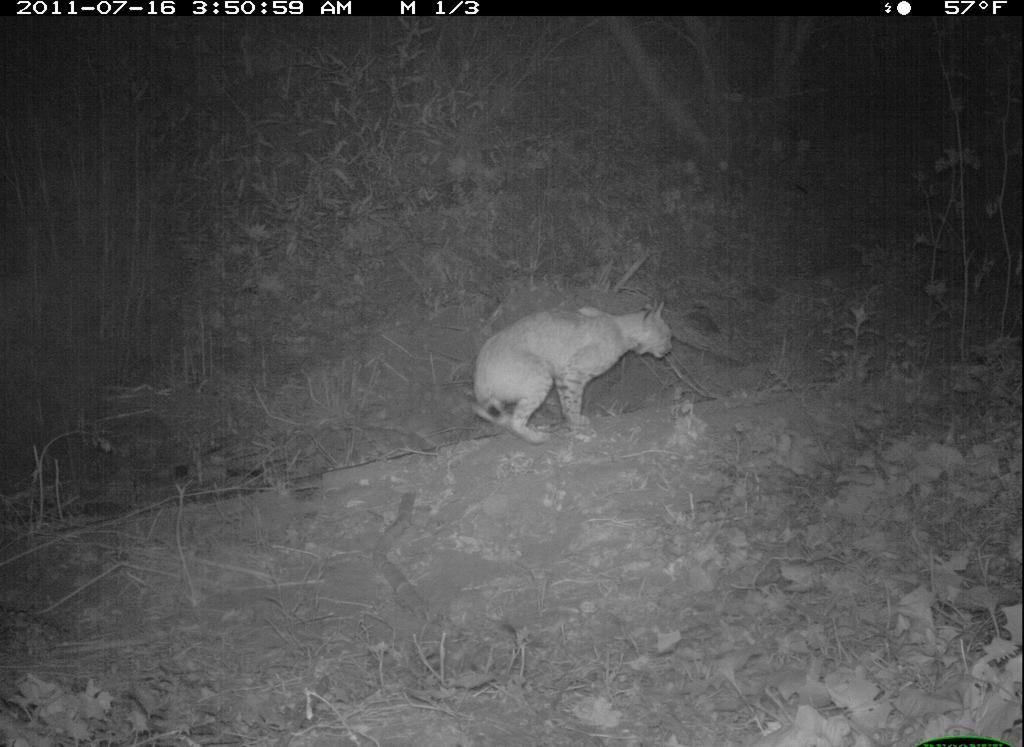bobcat: (460, 299, 675, 457)
